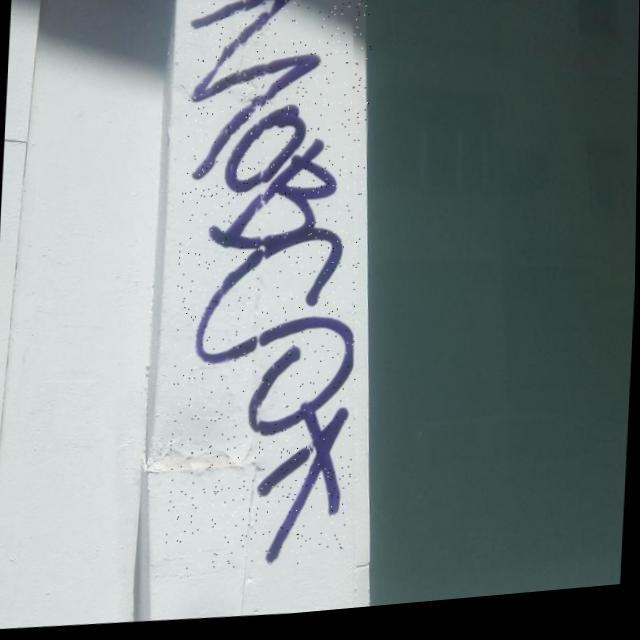-: (164, 0, 375, 580)
